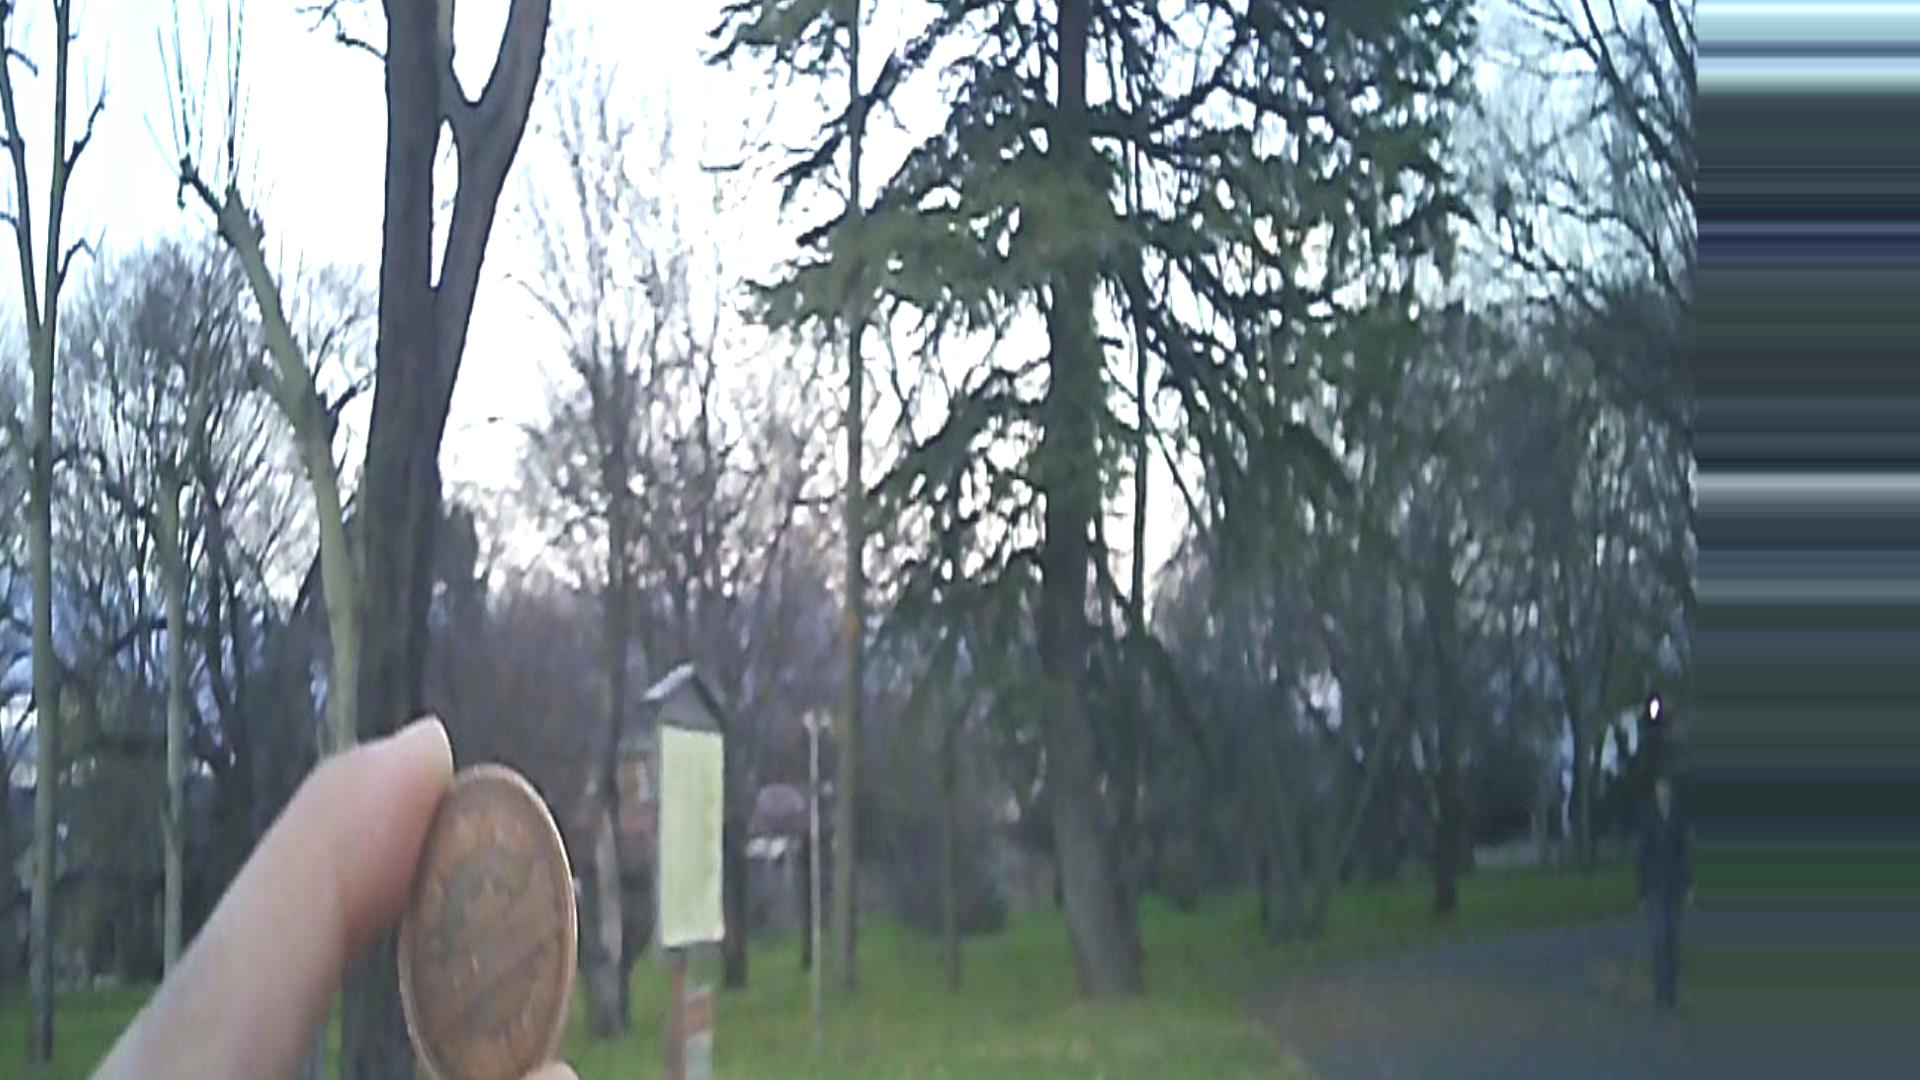10 Yen: (402, 770, 582, 1075)
